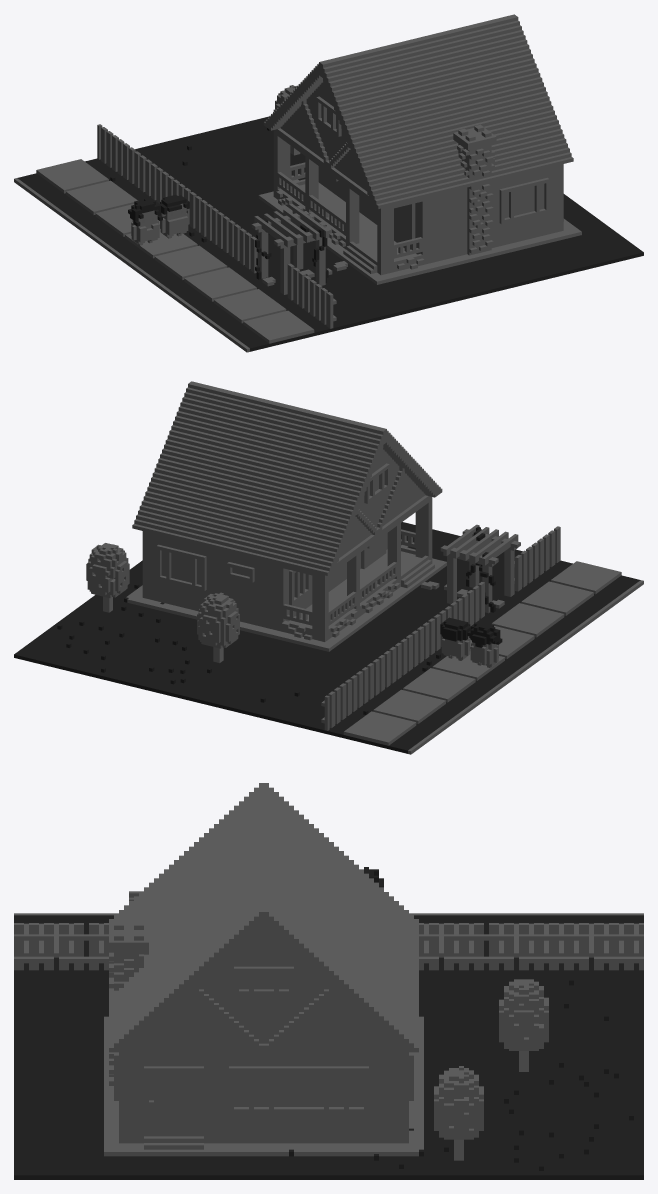
The model's file is scene_house5.obj.
3 renders of one model, top to bottom at view 1: azimuth 30°, elevation 25°; view 2: azimuth 150°, elevation 25°; view 3: azimuth 270°, elevation 25°, orthographic. The views are drawn at different scales.
Size of the model in its own units: 124 by 54 by 126.
